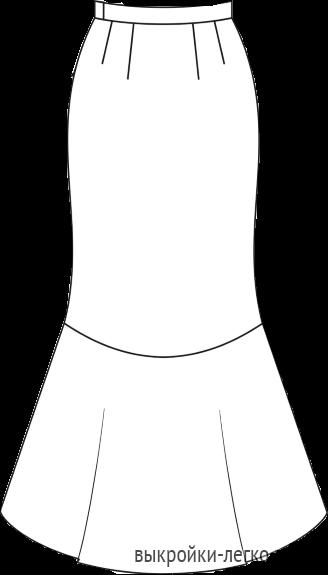Hemline: (0, 508, 327, 573)
Waistline: (61, 320, 264, 361), (91, 14, 232, 30), (95, 0, 232, 12)
